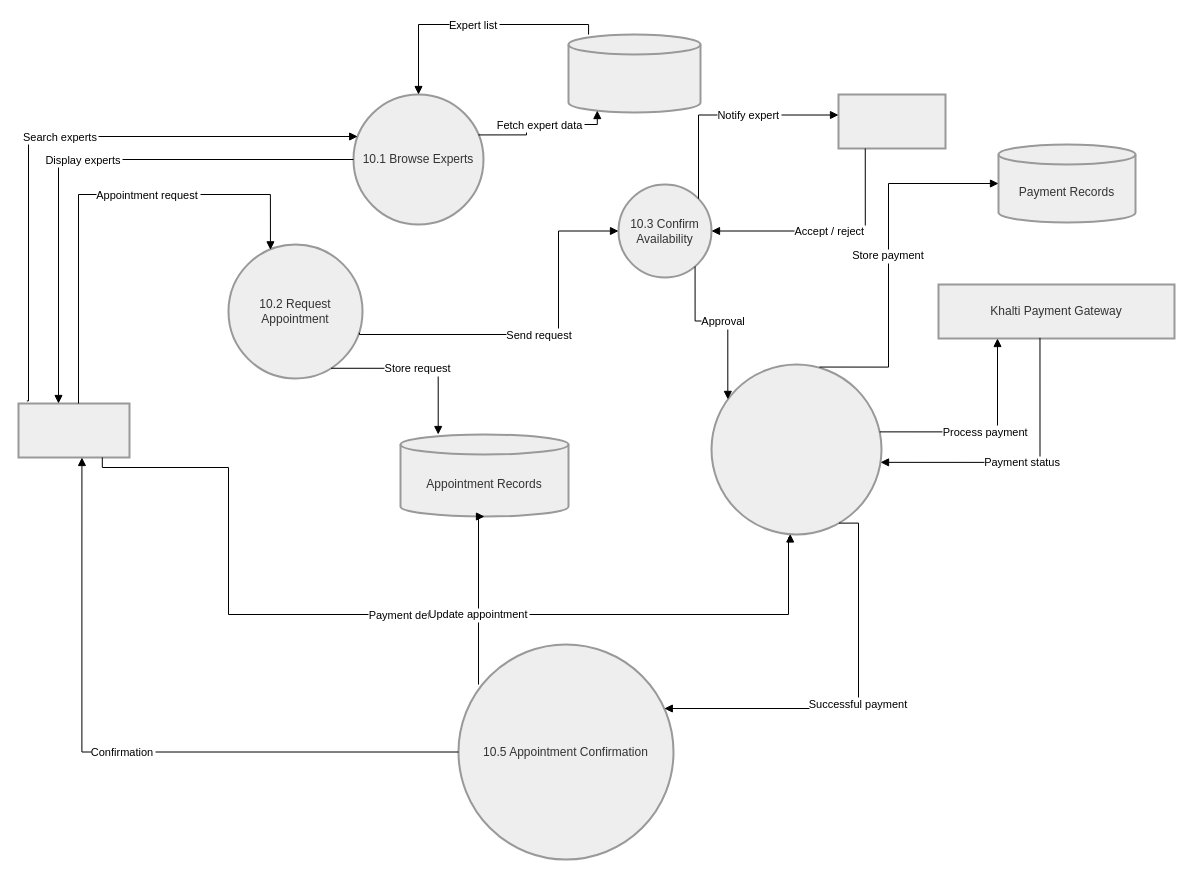
This 1192x878 diagram has some shape labels left out. The centre of each missing label's shape, as x and y in pixels:
"10.4 Process Payment" belongs at point 796,449.
"Expert" belongs at point 891,121.
"Expert Database" belongs at point 634,73.
"Farmer" belongs at point 73,430.
